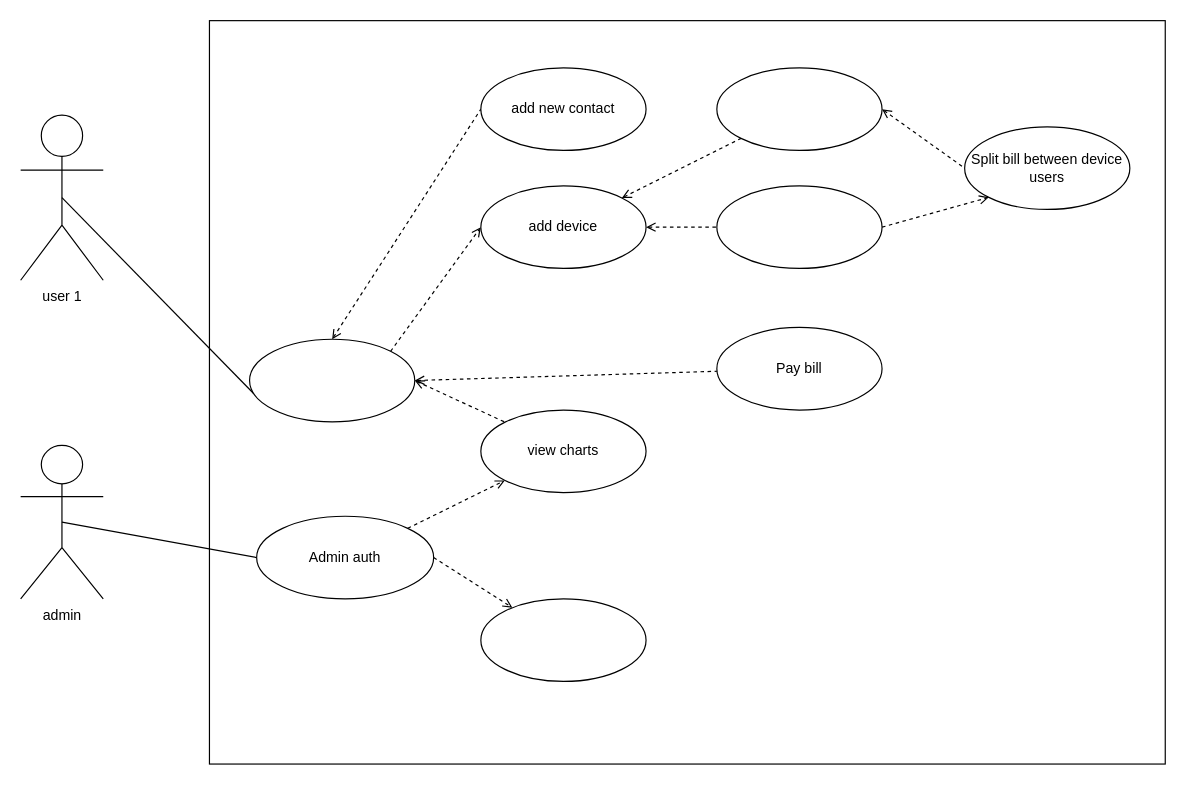
The diagram is 1186 pixels wide and 785 high, and some of its shapes have lost their labels. Each missing label, with the centre of its shape:
Add user to device: the point at 799,226
Auth: the point at 331,380
Create bill: the point at 799,108
Manage users: the point at 563,639
